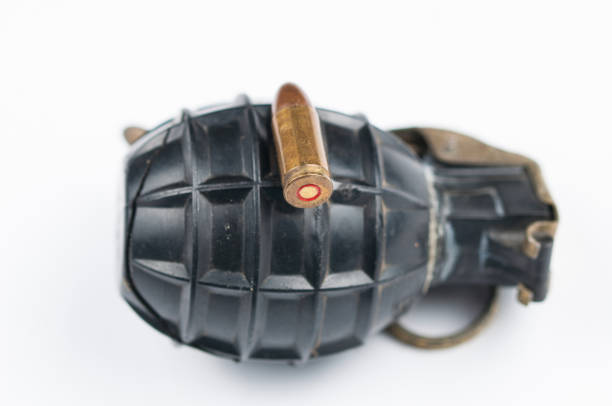e1: (119, 94, 560, 366)
